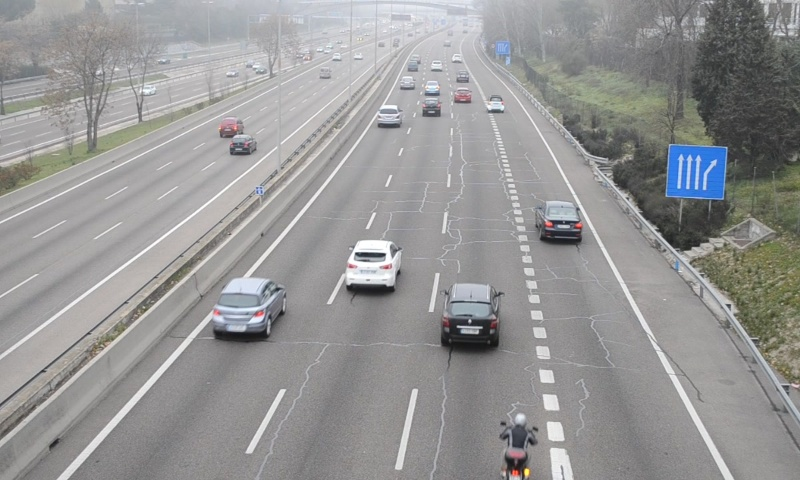car: (212, 278, 283, 338), (440, 284, 501, 350), (345, 238, 404, 292), (535, 200, 582, 242), (376, 105, 402, 128), (422, 97, 441, 116), (486, 94, 504, 114), (454, 87, 472, 104), (424, 80, 441, 96), (398, 76, 416, 91)
motorcycle: (496, 412, 540, 480)
